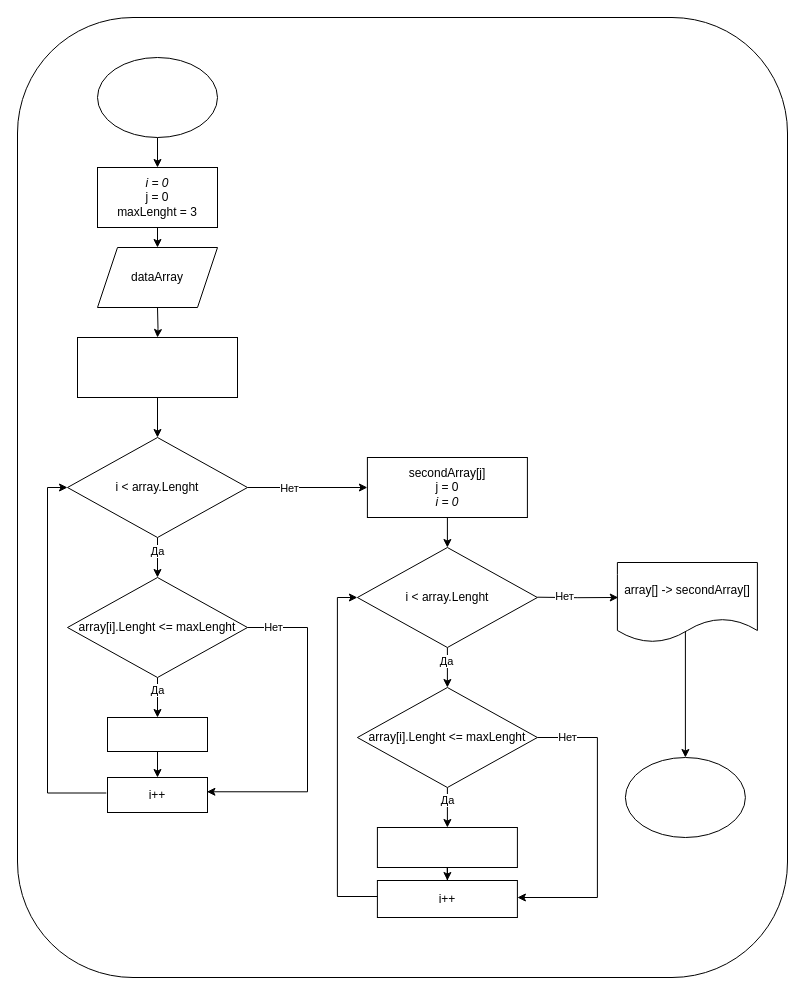
Image size: 805x995. Some labels were removed from this diagram. The box of each missing label's shape, as (x1, y1, x2, y2) in pixels:
array[] = dataArray.Split(): (76, 336, 238, 398)
End: (624, 756, 745, 838)
j++: (106, 716, 208, 752)
secondArray[j] = array[i] j++: (376, 826, 517, 868)
Start: (96, 56, 218, 138)
